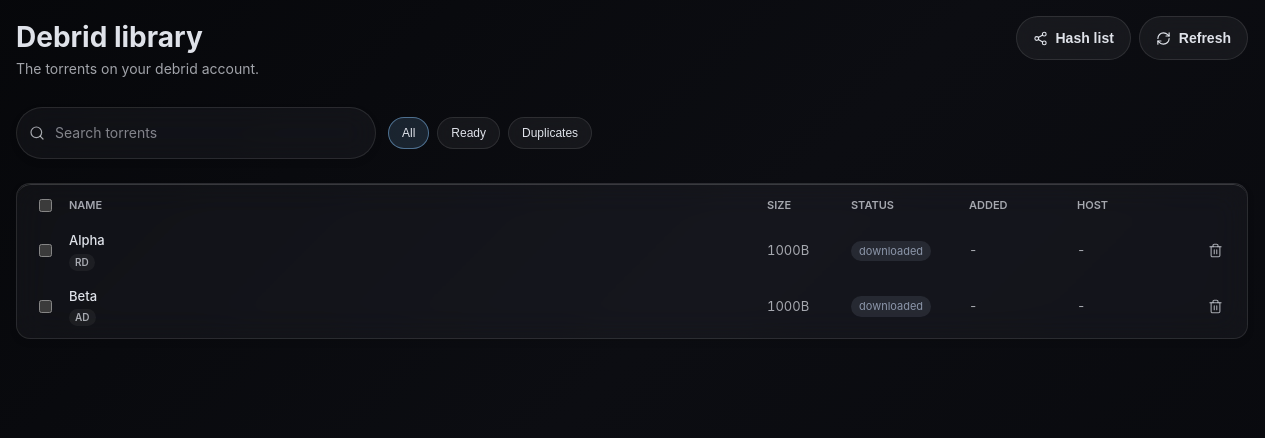
Test: DebridLibrary - select-all + delete › surfaces a partial-failure action error and still reloads
Click the checkbox named "Select all": (46, 206) 39,199 -> 52,212
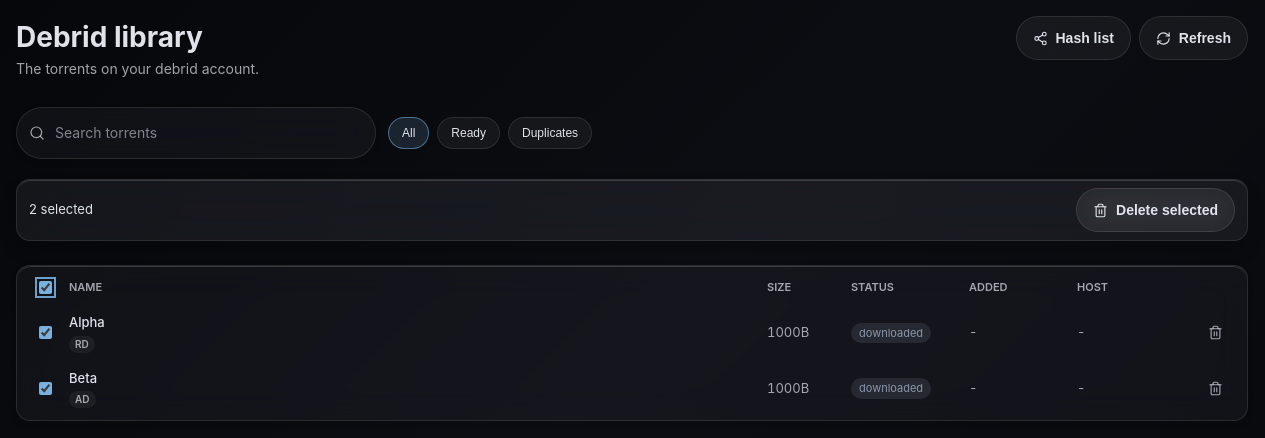
Click the button "Delete selected": (1156, 210) 1076,188 -> 1235,232
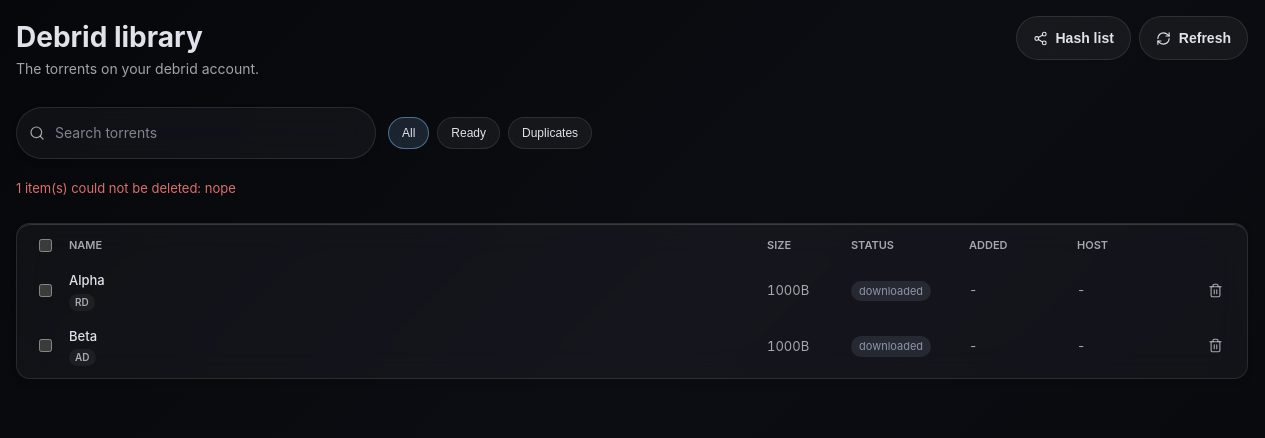
Result: the text "1 item(s) could not be deleted: nope" is shown at 16,180 -> 236,196
